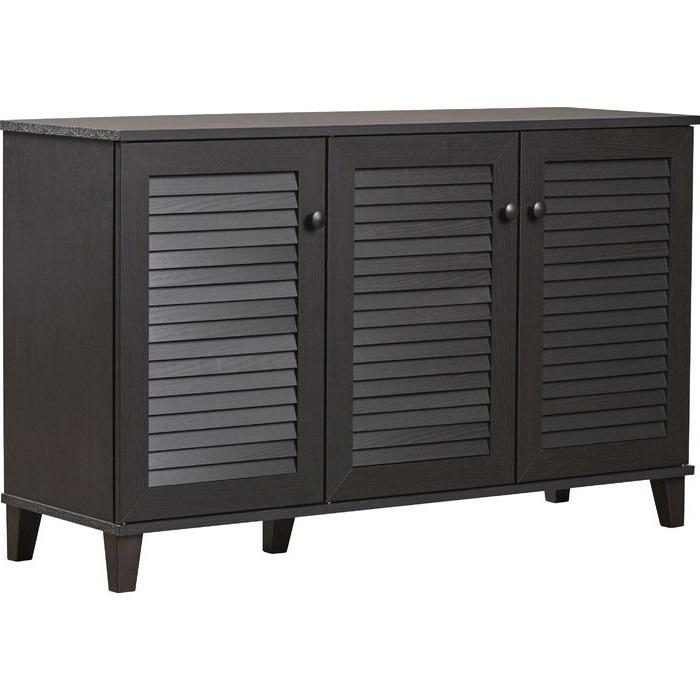cabinet_door: (117, 141, 323, 511), (334, 139, 520, 496), (524, 134, 687, 478)
handle: (303, 204, 325, 237), (501, 198, 517, 228), (529, 197, 545, 227)
